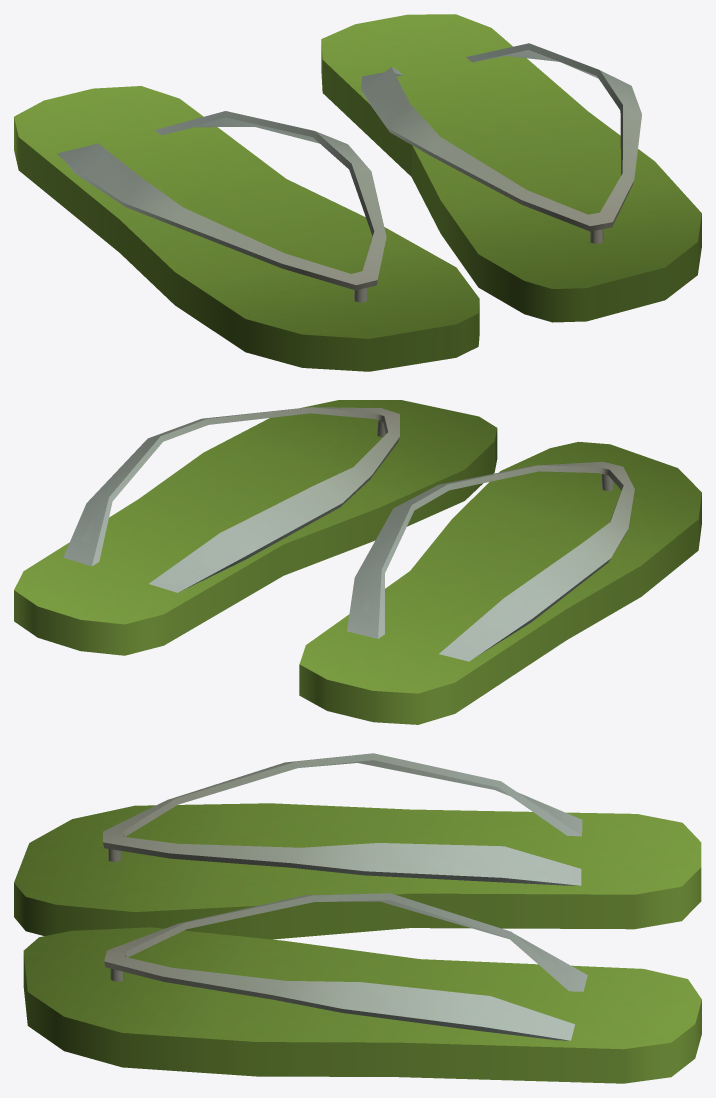
File: SM_Sandal_Double_1_02.fbx
The picture shows the model from 3 angles, top to bottom: view 1: azimuth 30°, elevation 25°; view 2: azimuth 150°, elevation 25°; view 3: azimuth 270°, elevation 25°; orthographic projection. The views are drawn at different scales.
Parts seen in each view (by area): view 1: SM_Sandal_Double_1_02; view 2: SM_Sandal_Double_1_02; view 3: SM_Sandal_Double_1_02.
Boxes of the visible parts, x1=… form: SM_Sandal_Double_1_02: x1=14, y1=14, x2=701, y2=371; SM_Sandal_Double_1_02: x1=14, y1=400, x2=701, y2=724; SM_Sandal_Double_1_02: x1=14, y1=753, x2=701, y2=1083.
Size of the model in its own units: 26.33 by 4.47 by 30.29.
